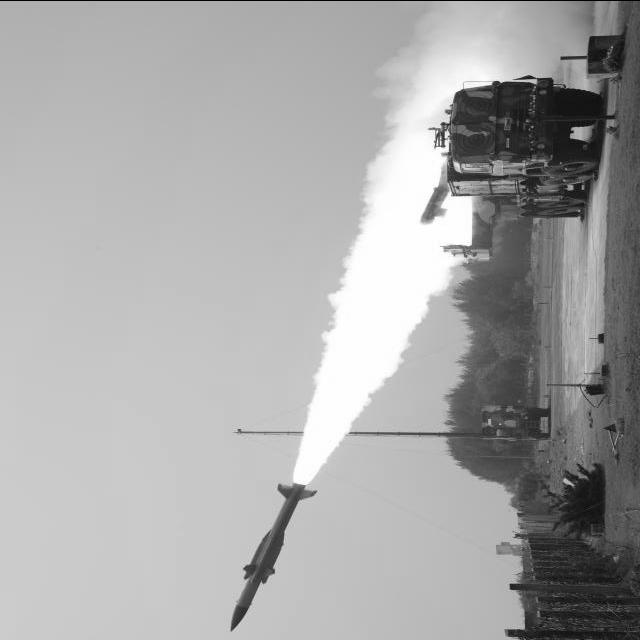missile: (219, 477, 323, 633)
